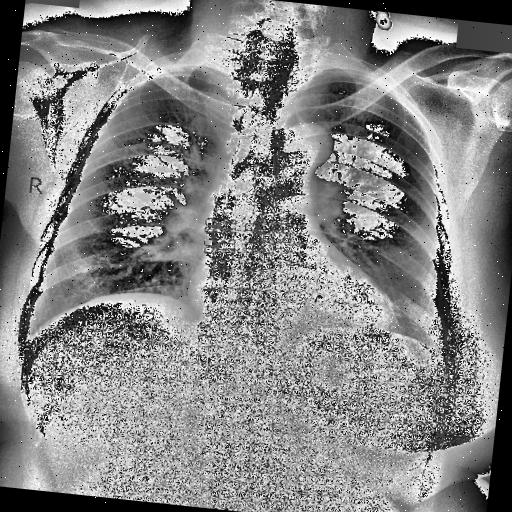0- Aortic enlargement: (276, 124, 338, 182), (270, 118, 336, 172), (280, 121, 334, 170)
3- Cardiomegaly: (180, 264, 406, 351)
7- Lung Opacity: (298, 172, 350, 228)
8- Nodule-Mass: (298, 172, 350, 228)
